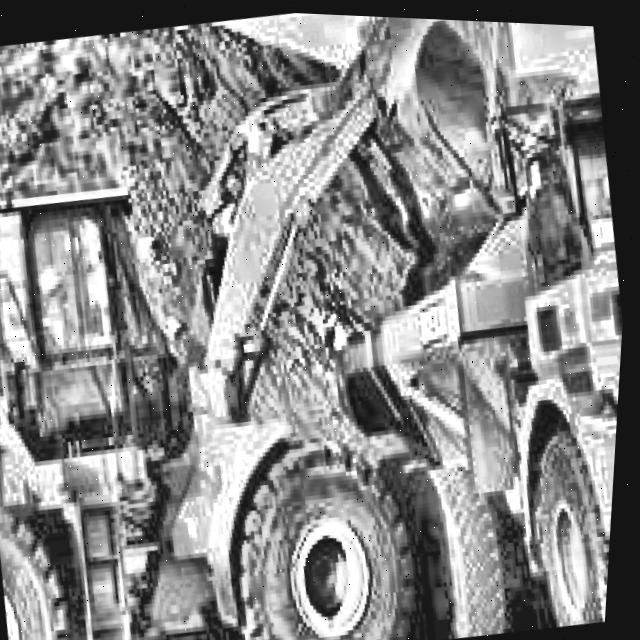buldozerpayloadergrader: (0, 0, 640, 640)
dump_truck: (303, 66, 637, 640)
